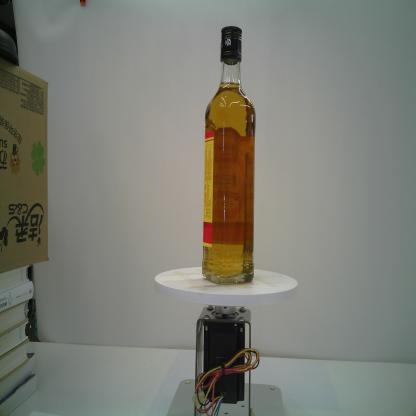Seasoner: (202, 24, 256, 285)
